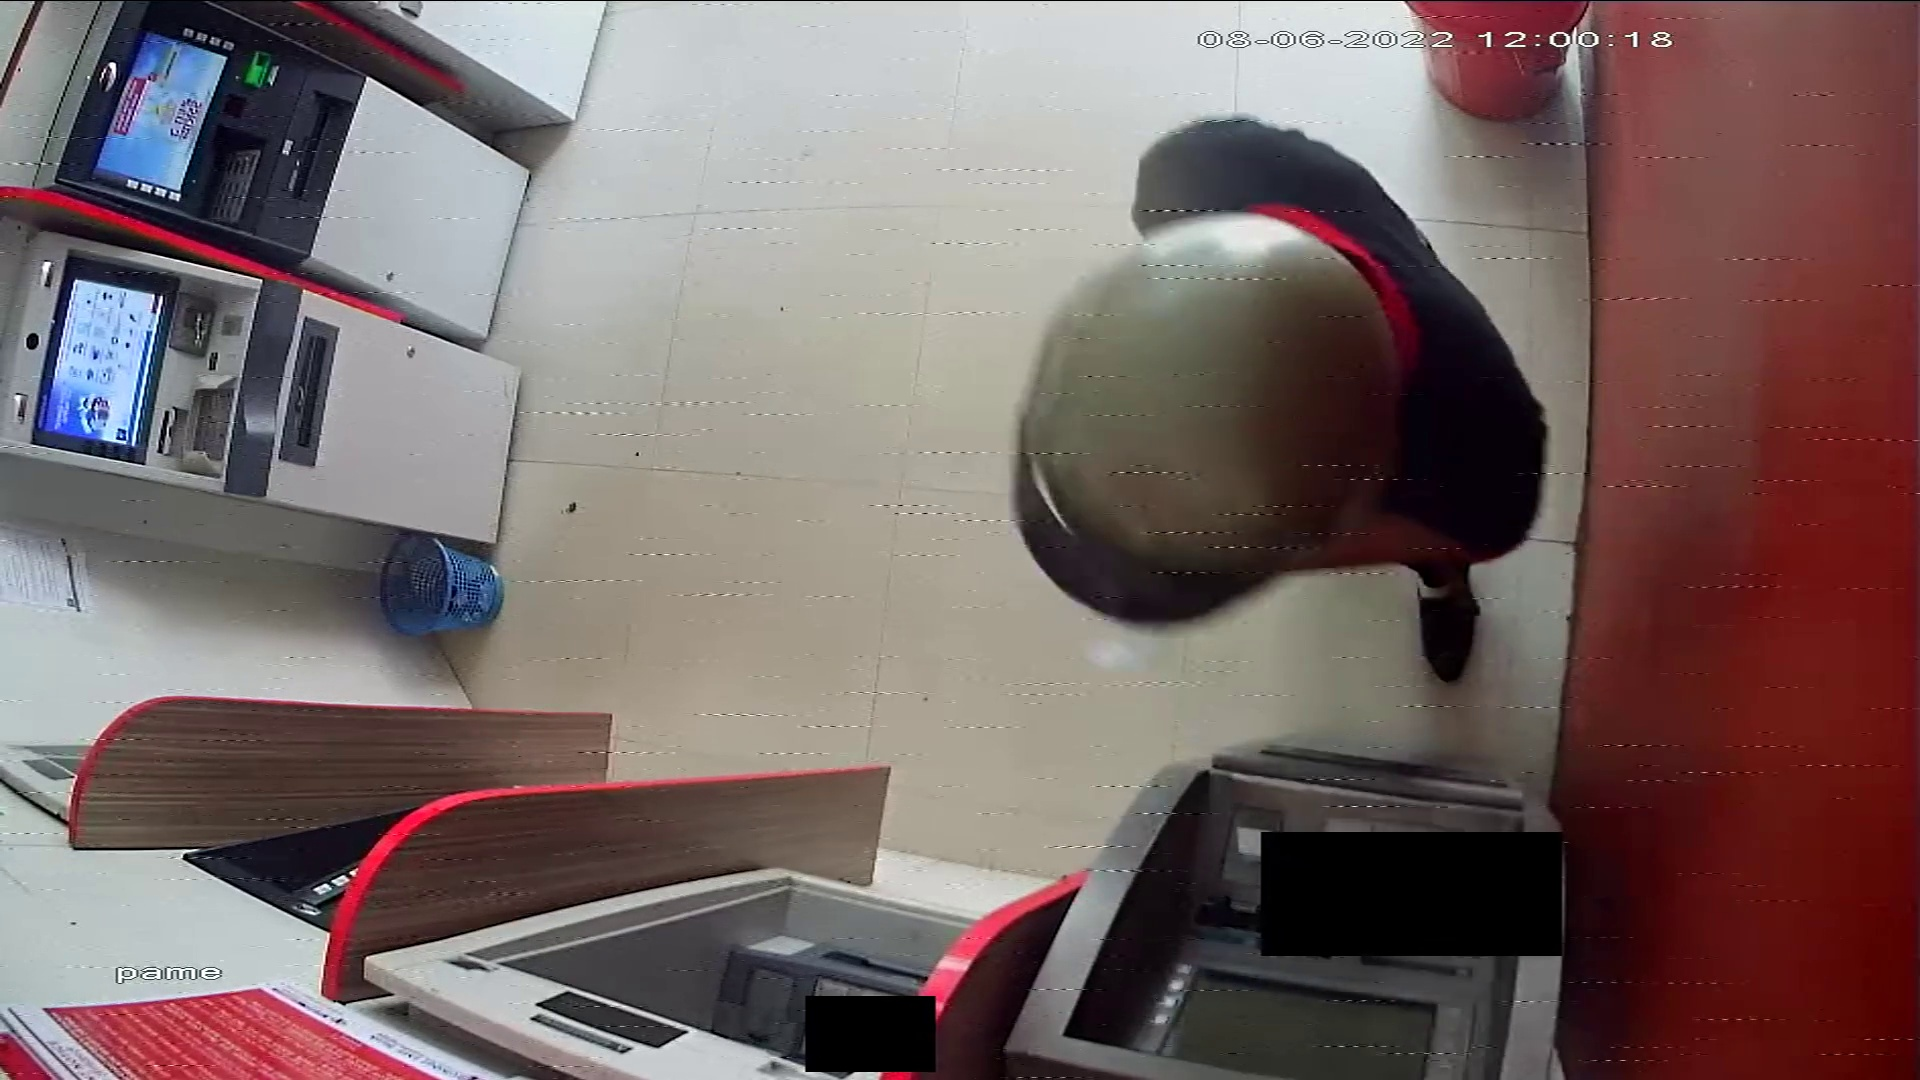helmet: (1011, 209, 1398, 625)
person: (1010, 119, 1552, 686)
